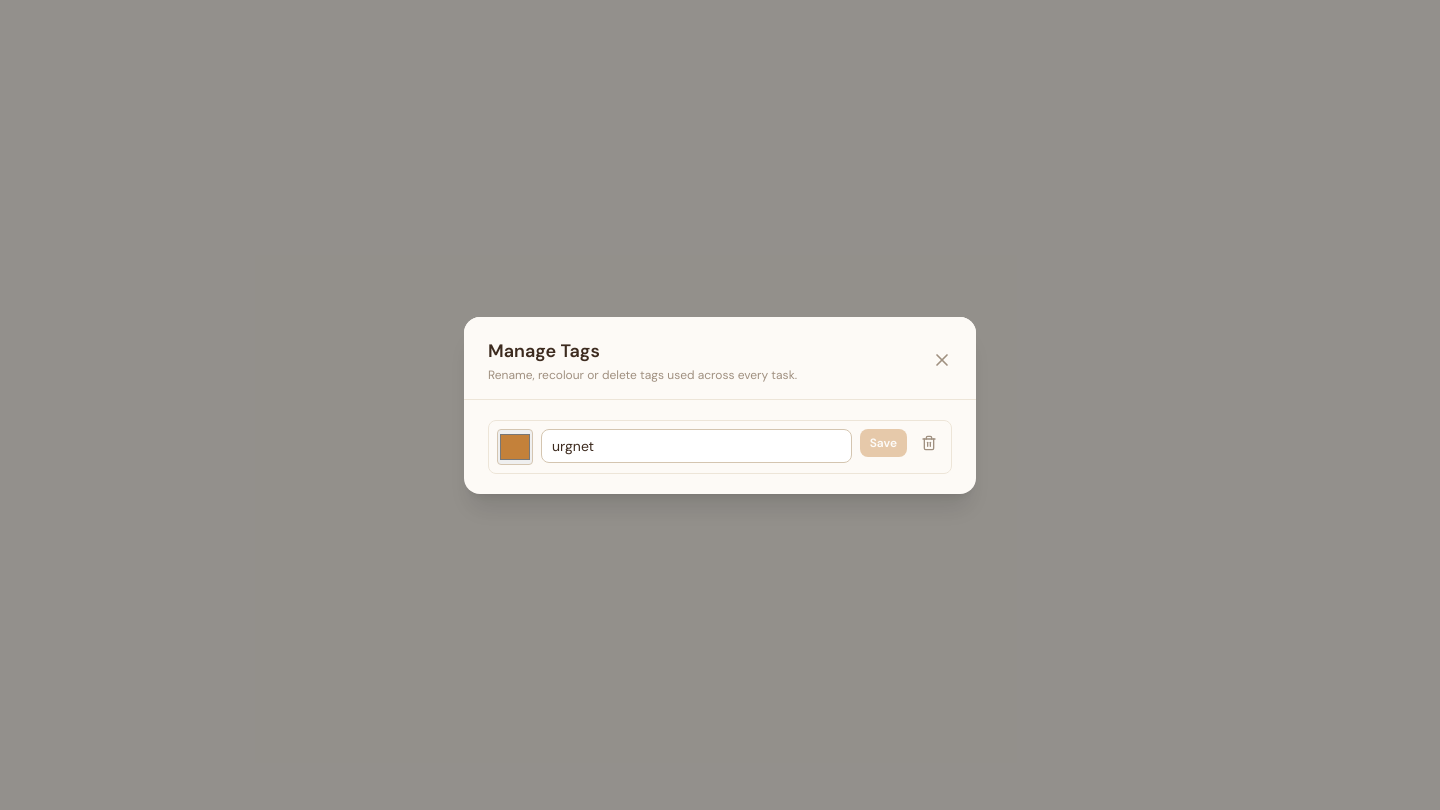
Test case: TagManagerModal 改名 / 换色 › reports a name clash in the words the user can act on
Replace the text in the field named "Name for urgnet" with "urgent" at coordinates (696, 446), box [541,428,852,462]
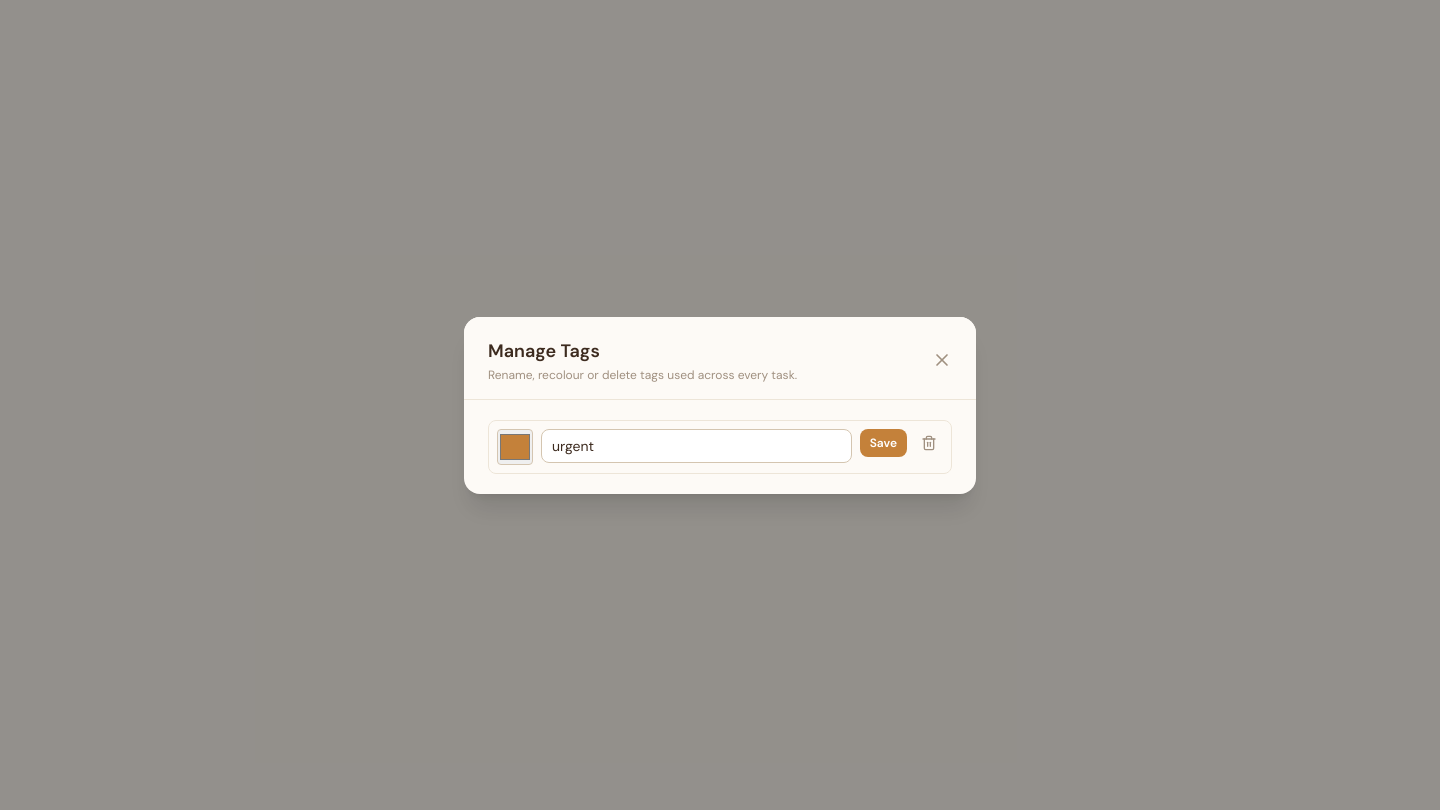
Click the button "Save" at coordinates (883, 442), box [860,428,907,456]
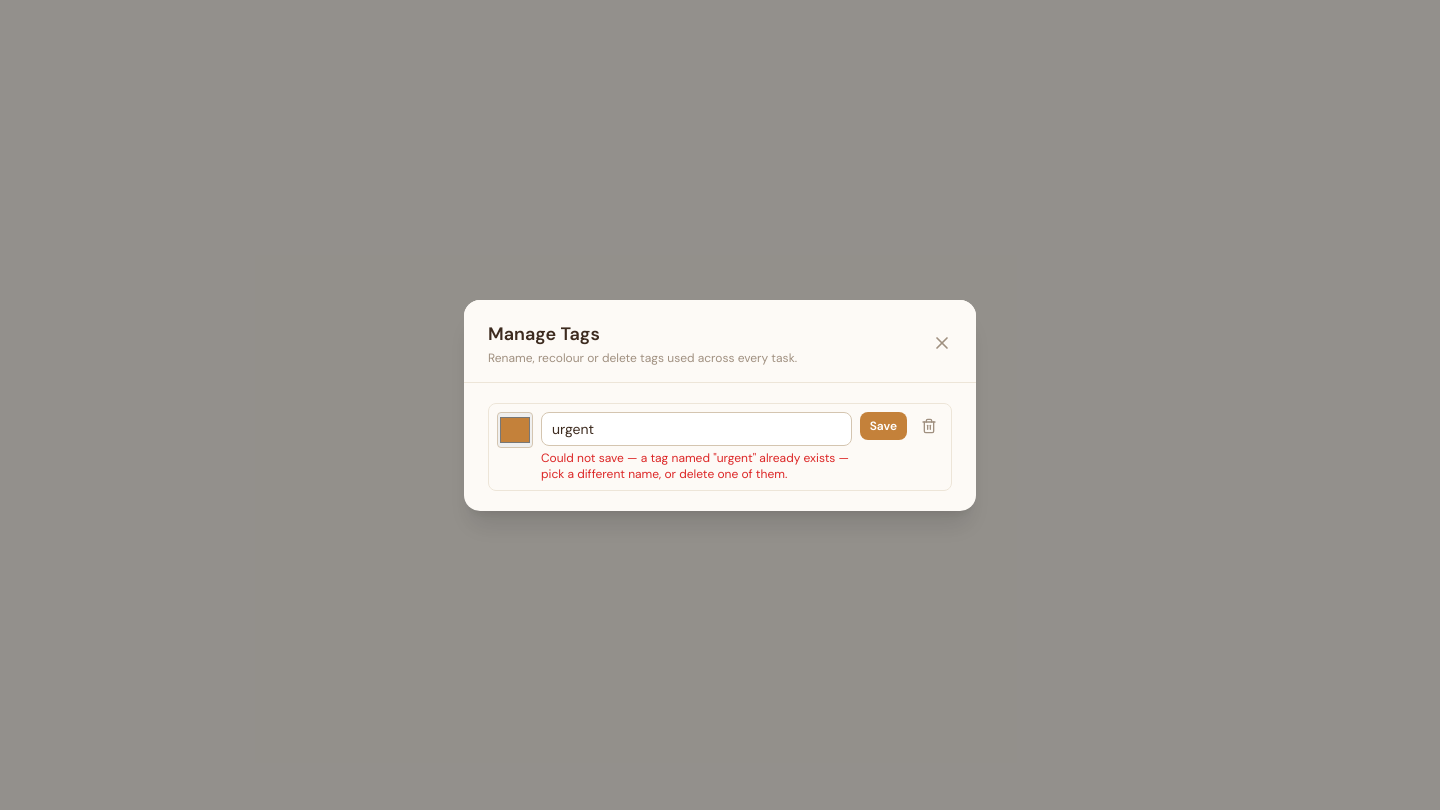
Expected: the text "already exists" is shown, [541,450,849,482]
